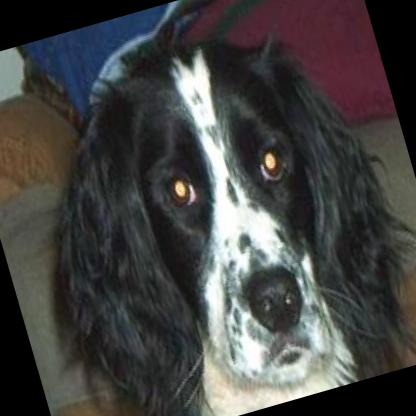English_springer: (14, 3, 416, 416)
